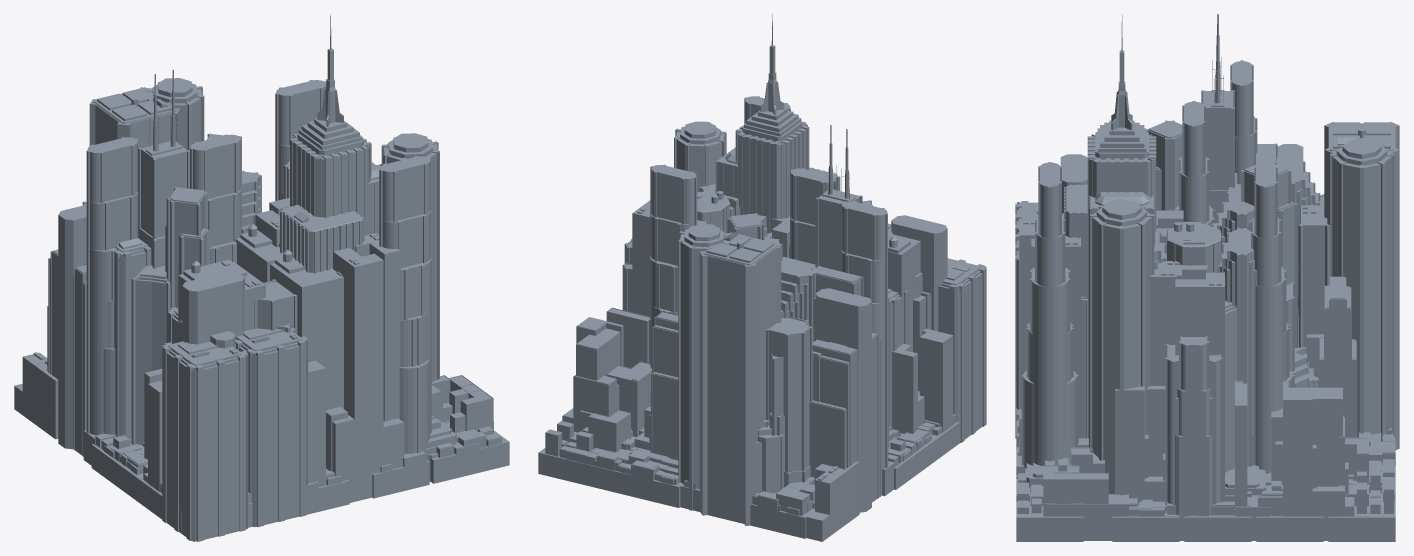
Rendered from building011.gltf.
3 views of the same model, side by side, from view 1: azimuth 30°, elevation 25°; view 2: azimuth 150°, elevation 25°; view 3: azimuth 270°, elevation 25° (orthographic). The views are drawn at different scales.
Visible parts, largest first — view 1: Buildings.1; view 2: Buildings.1; view 3: Buildings.1.
Part boxes in pixels (<box>): Buildings.1: <box>14,14,509,541</box>; Buildings.1: <box>538,14,986,541</box>; Buildings.1: <box>1015,14,1399,541</box>.
Bounding box in the file's own units: 5661 × 7590 × 5722.
